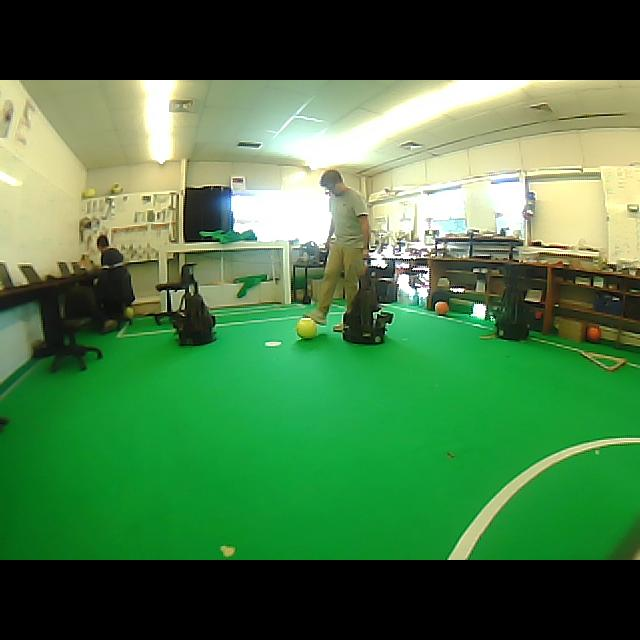ball: (296, 318, 317, 338), (586, 325, 601, 342), (435, 301, 448, 315), (110, 182, 124, 194), (124, 306, 133, 324), (82, 188, 96, 198)
goal: (283, 241, 291, 303)
robot: (343, 274, 393, 343), (173, 264, 215, 345), (496, 265, 529, 340)
